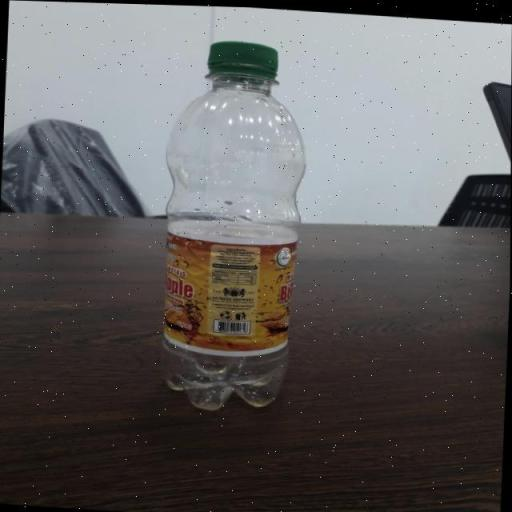plastic: (151, 34, 314, 416)
